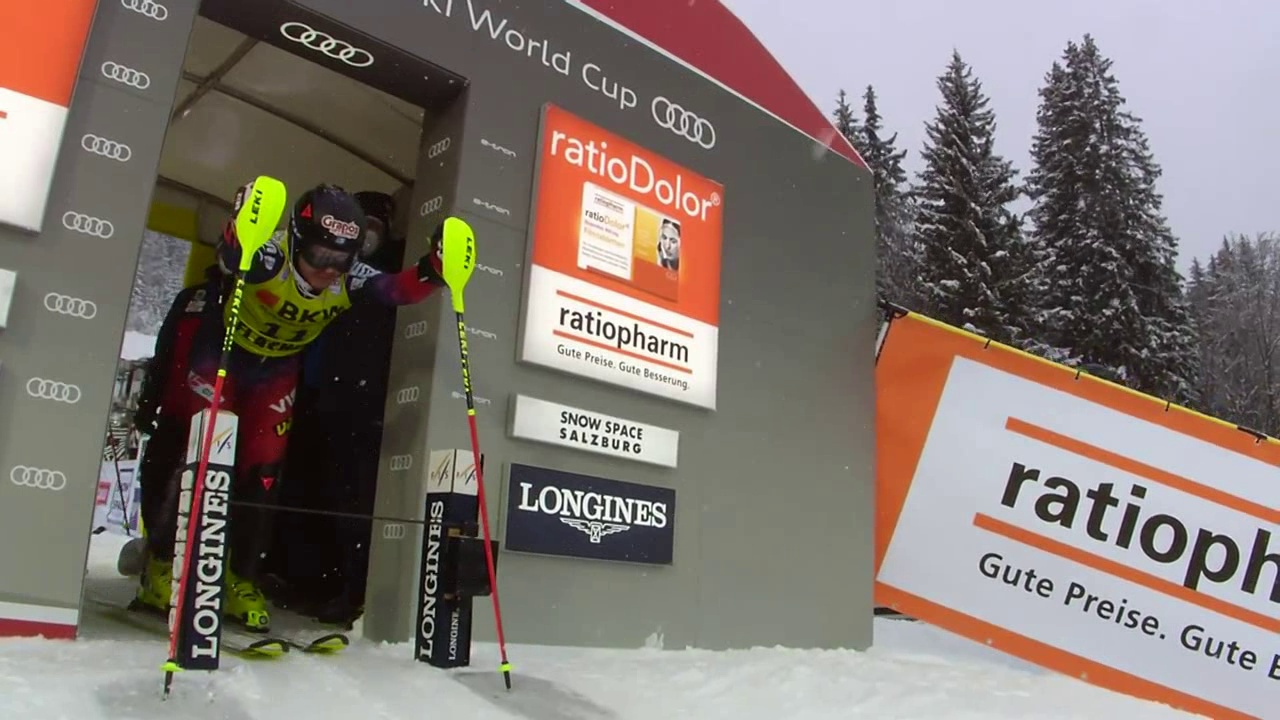audi: (281, 24, 381, 70), (653, 98, 722, 150), (79, 133, 138, 170), (98, 61, 158, 97), (24, 377, 88, 410), (59, 211, 120, 245), (41, 293, 103, 325), (8, 466, 70, 497), (116, 1, 176, 27), (425, 138, 457, 164), (393, 387, 426, 411), (387, 455, 421, 476), (418, 196, 449, 219), (399, 322, 431, 344), (380, 524, 411, 545)
etron: (470, 194, 514, 219), (460, 320, 502, 344), (447, 389, 496, 407)
longines: (521, 481, 663, 563), (175, 504, 225, 653), (416, 513, 451, 648)
ratiopharm: (557, 297, 703, 388)
